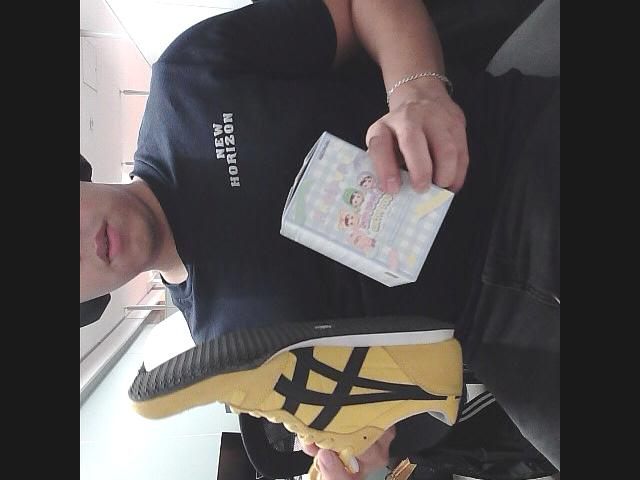Blind_box: (285, 130, 449, 284)
Shoes: (128, 317, 464, 460)
